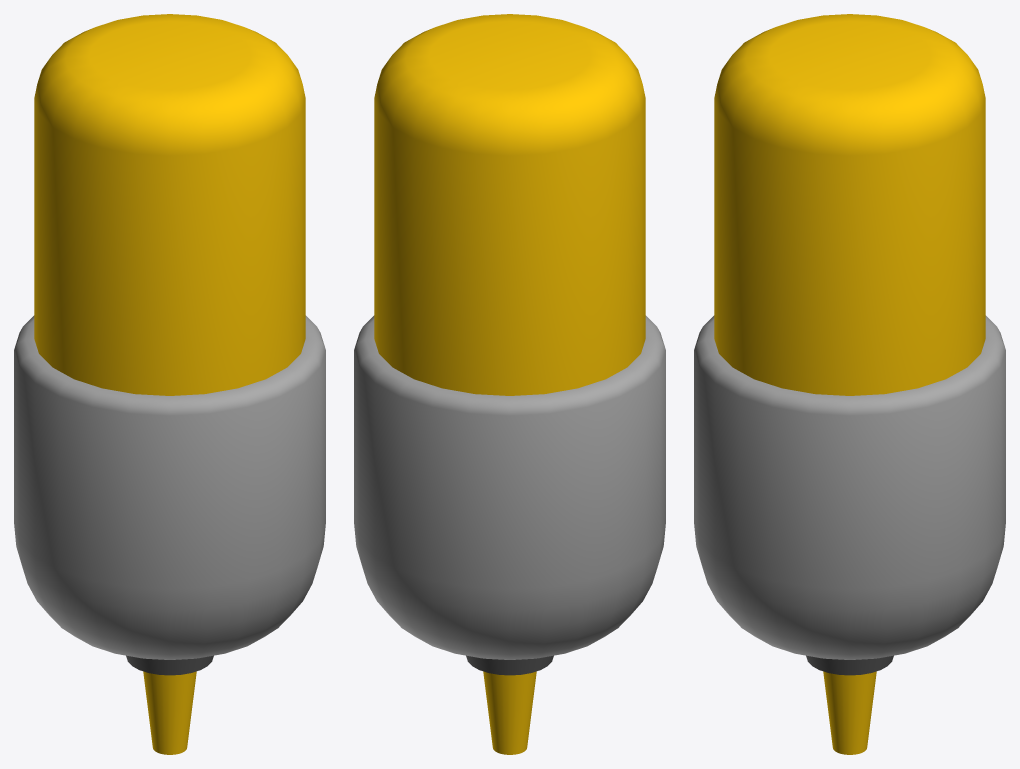
Rendered from DecorMachine_Pastry_MachineIcing.FBX.
3 renders of one model, left to right at view 1: azimuth 30°, elevation 25°; view 2: azimuth 150°, elevation 25°; view 3: azimuth 270°, elevation 25°, orthographic.
Visible parts, largest first — view 1: DecorMachine_Pastry_MachineIcing; view 2: DecorMachine_Pastry_MachineIcing; view 3: DecorMachine_Pastry_MachineIcing.
Part boxes in pixels (box(x1,y1,x2,y2)): DecorMachine_Pastry_MachineIcing: box(14, 14, 325, 754); DecorMachine_Pastry_MachineIcing: box(354, 14, 665, 754); DecorMachine_Pastry_MachineIcing: box(694, 14, 1005, 754).
Bounding box in the file's own units: 1978 × 4843 × 1978.
